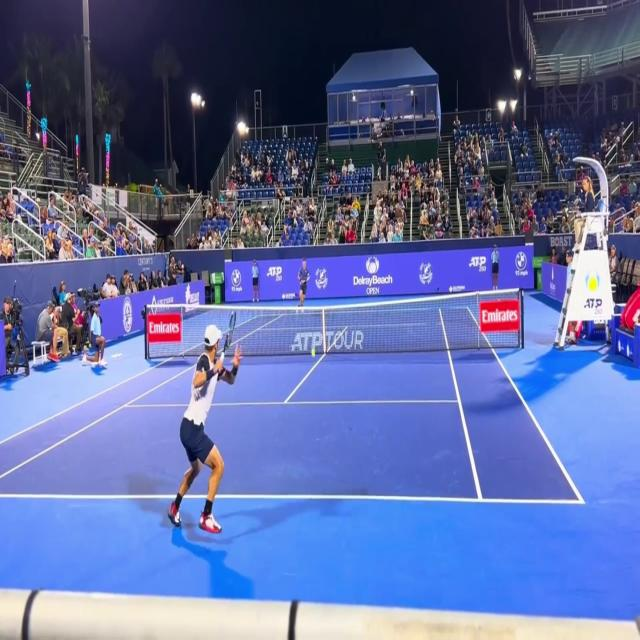tennisBall: (311, 346, 318, 360)
